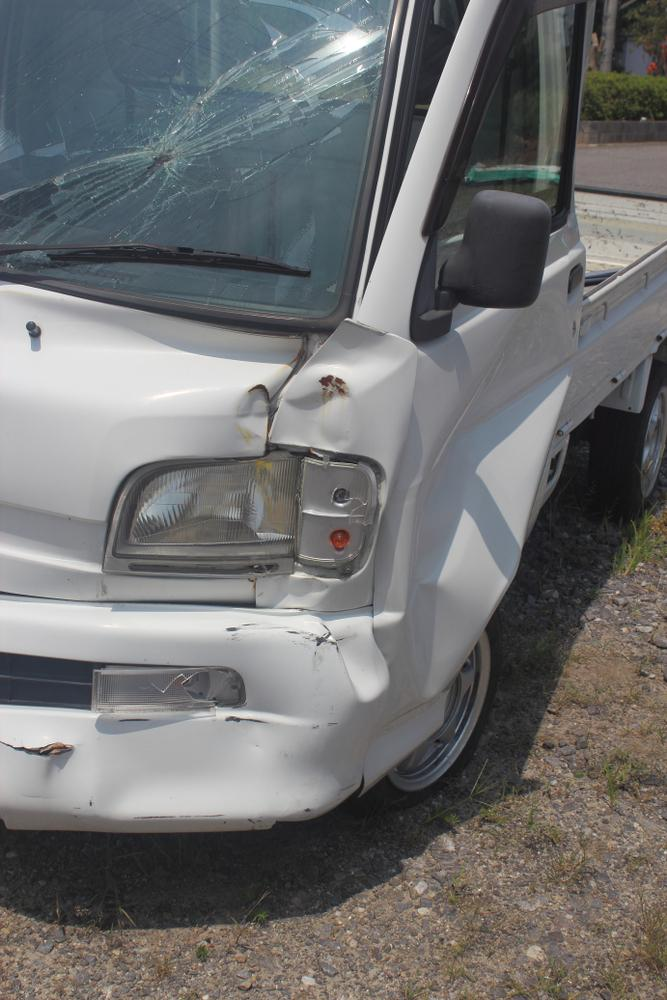crack: (0, 740, 73, 758), (356, 757, 366, 797)
dent: (406, 317, 567, 699), (89, 705, 341, 820), (268, 321, 412, 452), (321, 611, 388, 700), (256, 576, 332, 609), (238, 385, 271, 445)
glass shatter: (0, 0, 397, 317)
lamp broken: (120, 456, 374, 568), (91, 664, 246, 713)
scratch: (225, 619, 340, 652)
